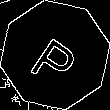P_NE: (26, 24, 84, 86)
